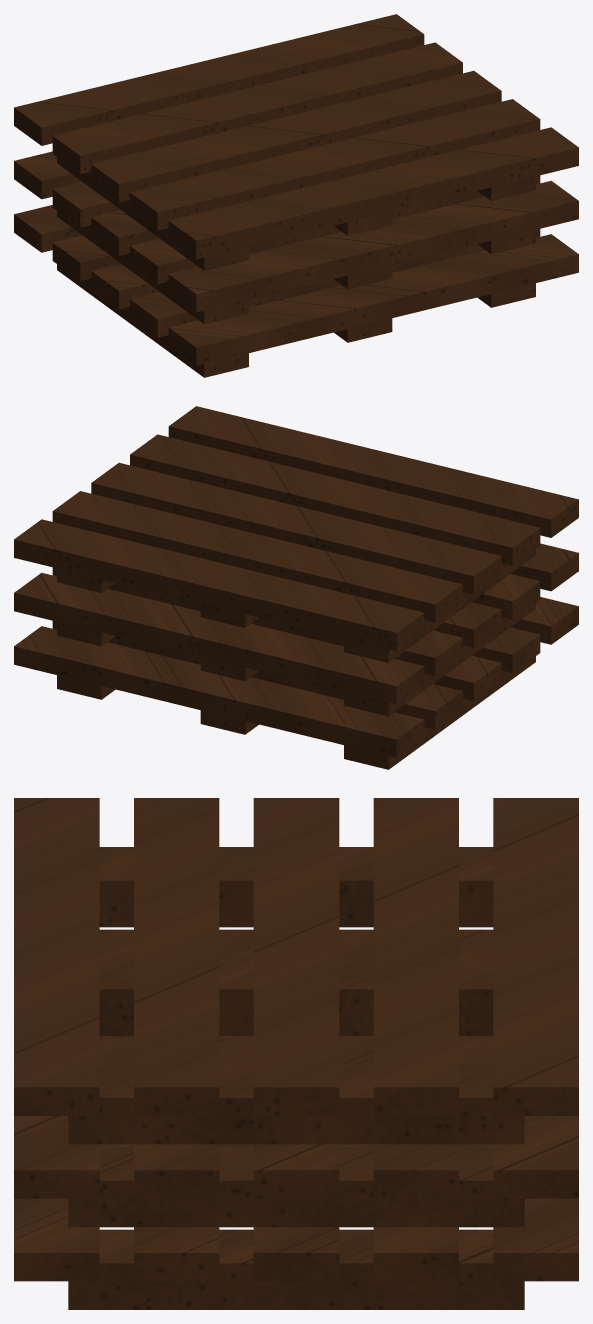
The model's file is PROP-7E4D927A8681_lod2.glb.
3 views of the same model, one above another, from view 1: azimuth 30°, elevation 25°; view 2: azimuth 150°, elevation 25°; view 3: azimuth 270°, elevation 25° (orthographic). The views are drawn at different scales.
Parts seen in each view (by area): view 1: pallet_deck.001, pallet_feet.001; view 2: pallet_deck.001, pallet_feet.001; view 3: pallet_deck.001, pallet_feet.001.
Part boxes in pixels (x1,y1,x2,y2): pallet_deck.001: (14, 14, 578, 365); pallet_feet.001: (57, 157, 535, 377); pallet_deck.001: (14, 406, 578, 757); pallet_feet.001: (57, 549, 535, 769); pallet_deck.001: (14, 798, 578, 1281); pallet_feet.001: (68, 847, 524, 1309).
Size of the model in its own units: 1.2 by 0.4675 by 0.99.
1 material, 1 textured.
